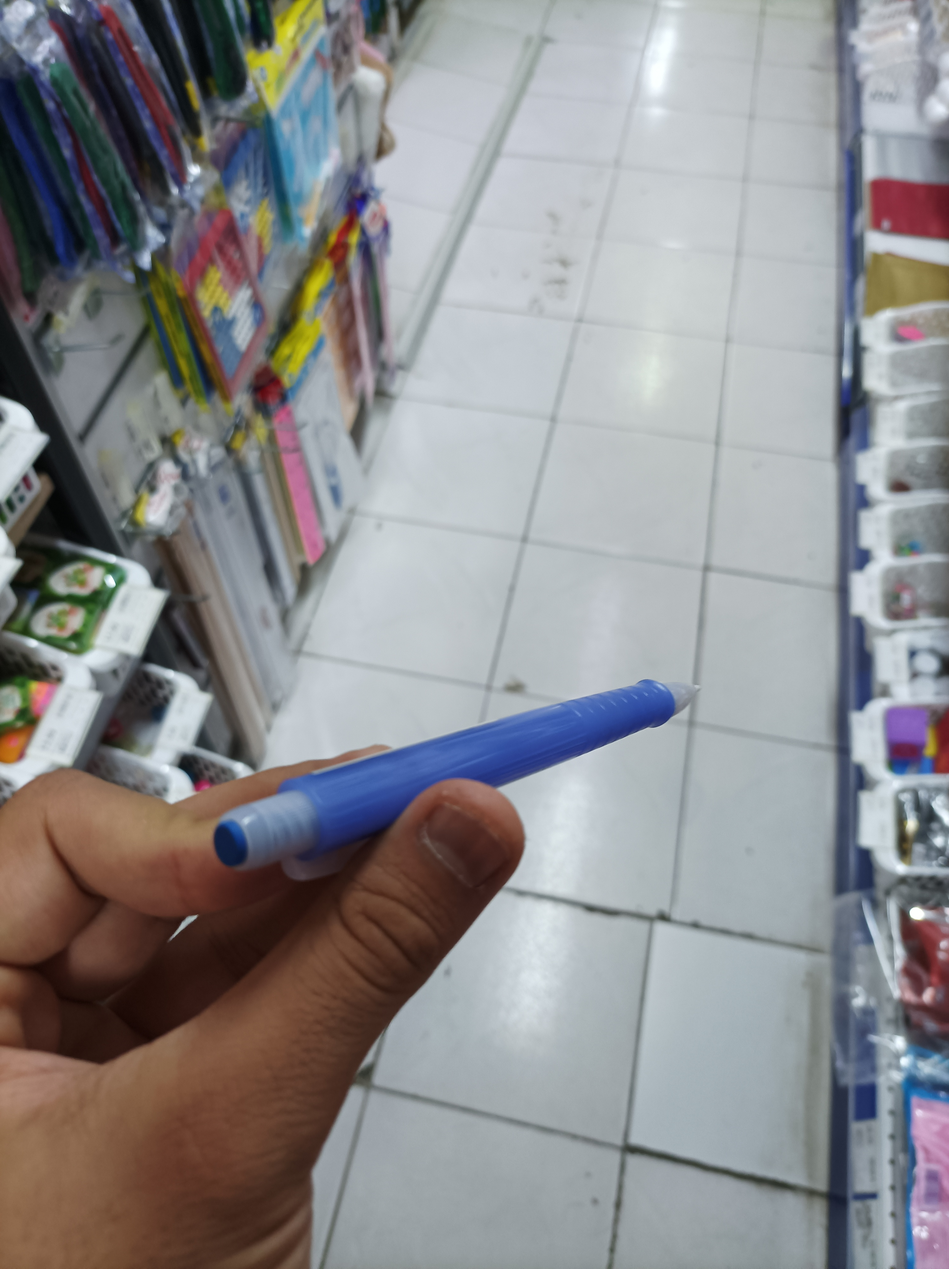plastic: (223, 673, 711, 885)
